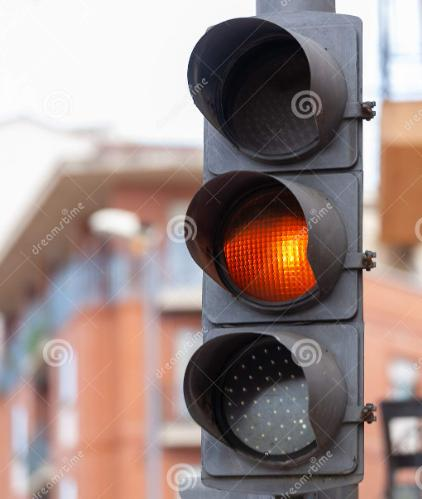yellow_light: (184, 11, 376, 494)
